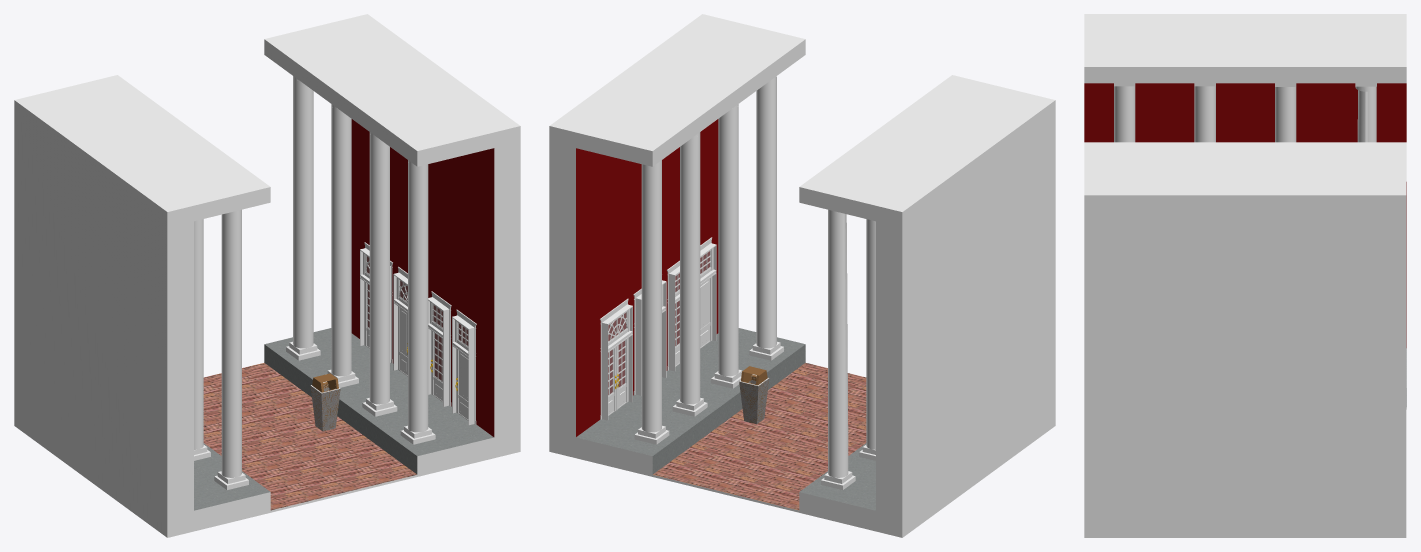
Rendered from CollegeRun_trashRight.dae.
The picture shows the model from 3 angles, left to right: view 1: azimuth 30°, elevation 25°; view 2: azimuth 150°, elevation 25°; view 3: azimuth 270°, elevation 25°; orthographic projection. The views are drawn at different scales.
Parts seen in each view (by area): view 1: SketchUp (×13), Componente_1 (×2), Componente_1_1, Trash_Bin, Componente_15; view 2: SketchUp (×12), Componente_1 (×2), Componente_15, Trash_Bin, Componente_1_1; view 3: SketchUp (×7).
Boxes of the visible parts, bbox=[...] form: SketchUp (×13): bbox=[14, 14, 520, 537]; Componente_1 (×2): bbox=[360, 242, 451, 406]; Componente_1_1: bbox=[452, 309, 476, 425]; Trash_Bin: bbox=[310, 385, 340, 431]; Componente_15: bbox=[393, 266, 407, 370]; SketchUp (×12): bbox=[549, 14, 1055, 537]; Componente_1 (×2): bbox=[600, 260, 679, 420]; Componente_15: bbox=[633, 280, 666, 395]; Trash_Bin: bbox=[739, 378, 769, 424]; Componente_1_1: bbox=[700, 237, 716, 340]; SketchUp (×7): bbox=[1084, 14, 1406, 537].
Bounding box in the file's own units: 480 × 360 × 423.
10 materials, 3 textured.
